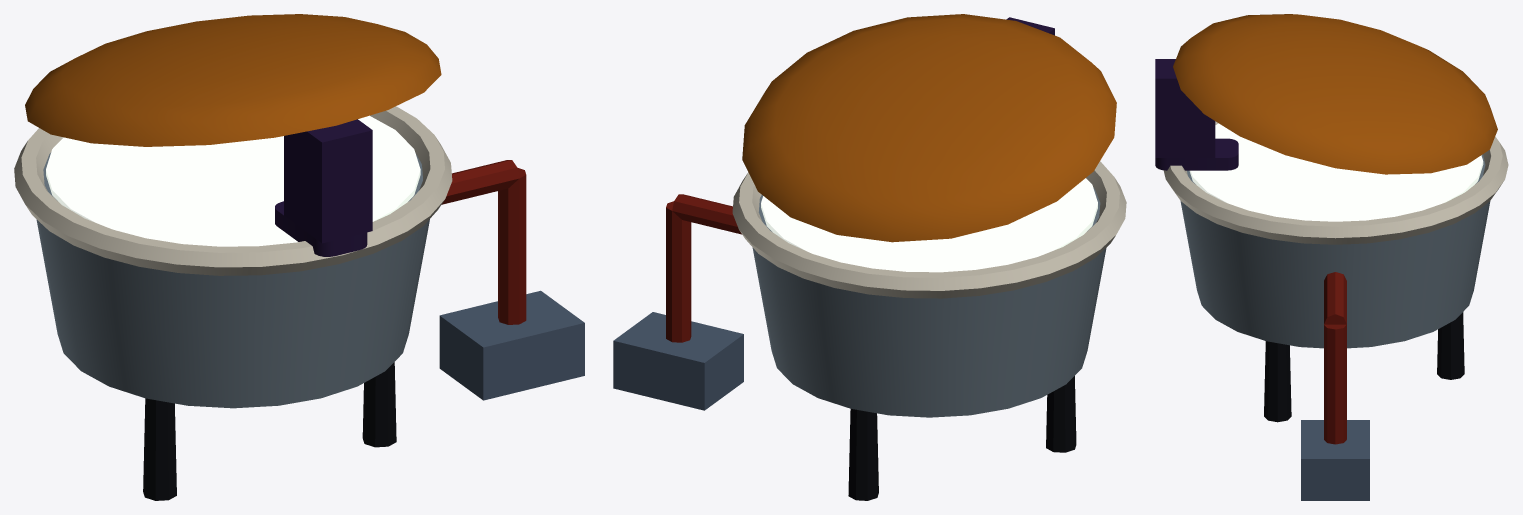
File: lab_kettle.glb
3 renders of one model, left to right at view 1: azimuth 30°, elevation 25°; view 2: azimuth 150°, elevation 25°; view 3: azimuth 270°, elevation 25°, orthographic. The views are drawn at different scales.
Visible parts, largest first — view 1: lab_kettle; view 2: lab_kettle; view 3: lab_kettle.
Part boxes in pixels (x1,y1,x2,y2): lab_kettle: (14,14,584,500); lab_kettle: (613,14,1126,500); lab_kettle: (1155,14,1508,500).
Size of the model in its own units: 2.05 by 1.55 by 1.53.
